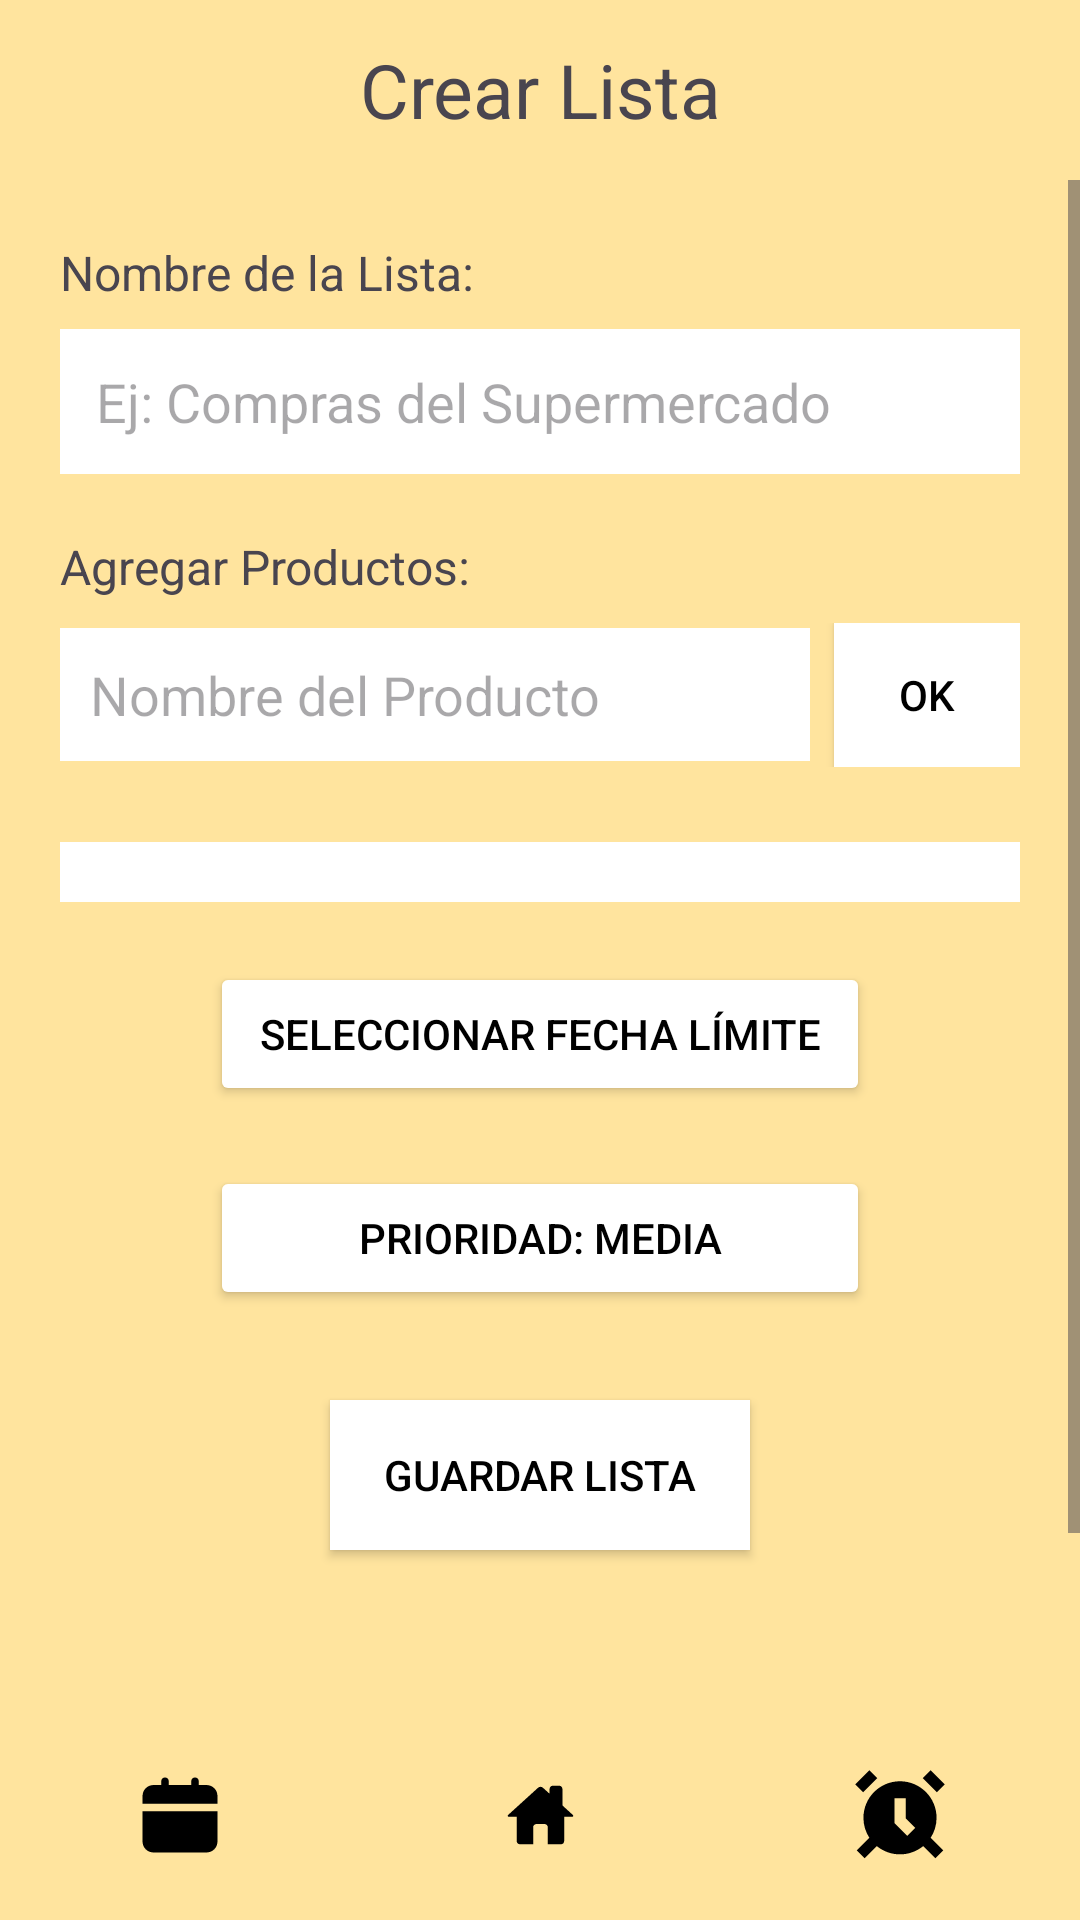

Named icons in this screenshot (1080px x 1920px) and their bounding boxes, (x1, y1, x2, y2):
Ir al calendario: (142, 1777, 218, 1853)
Ir al inicio: (507, 1785, 574, 1845)
